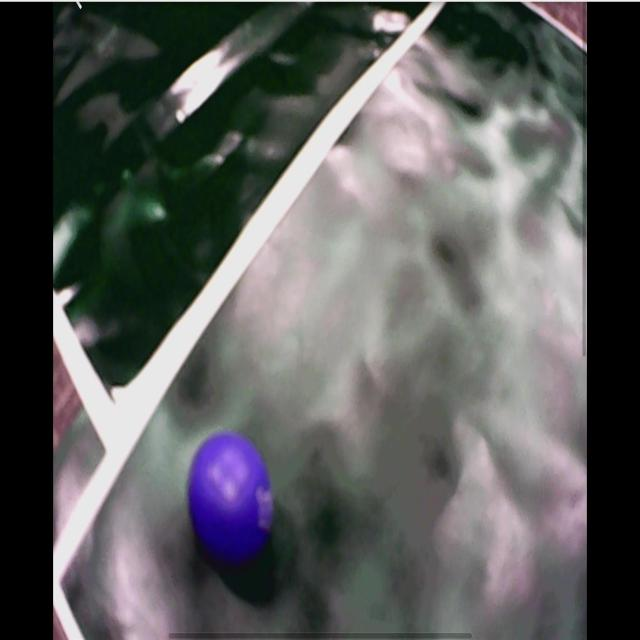ball: (188, 432, 275, 558)
